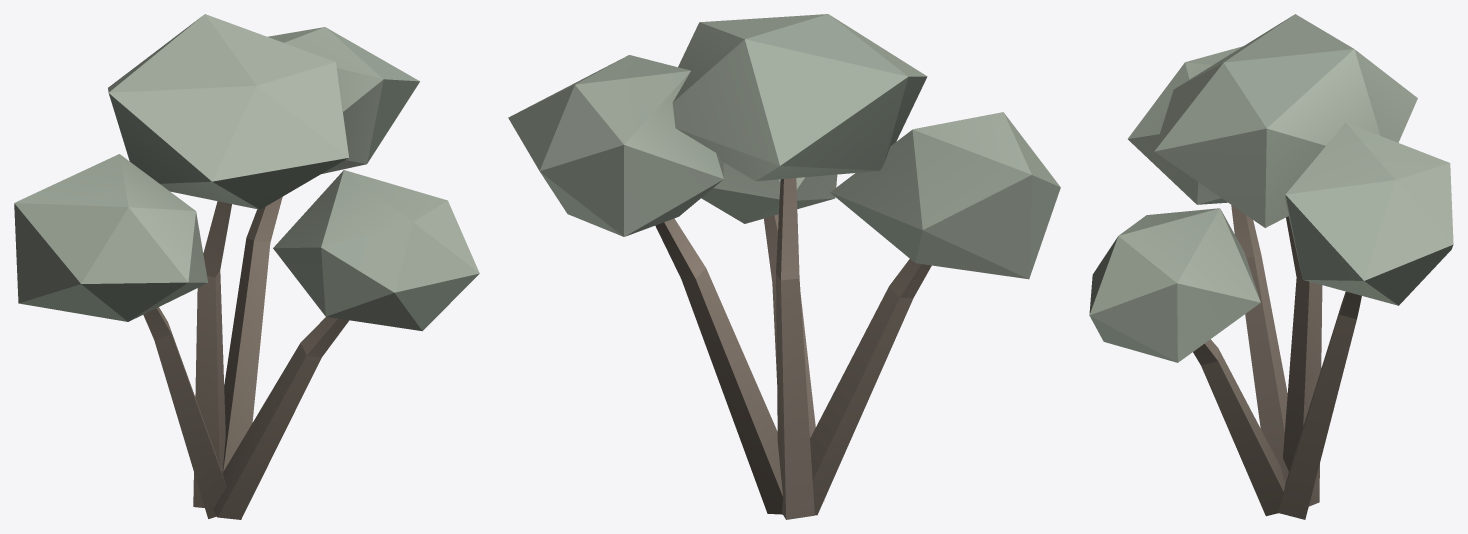
The model's file is tamarisk.lod2.glb.
3 views of the same model, side by side, from view 1: azimuth 30°, elevation 25°; view 2: azimuth 150°, elevation 25°; view 3: azimuth 270°, elevation 25° (orthographic). The views are drawn at different scales.
Size of the model in its own units: 2.61 by 2.6 by 1.82.
